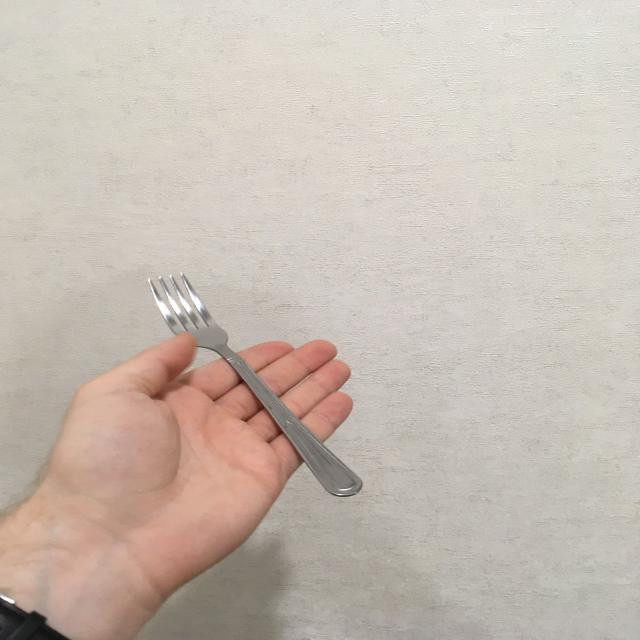fork: (144, 270, 364, 499)
